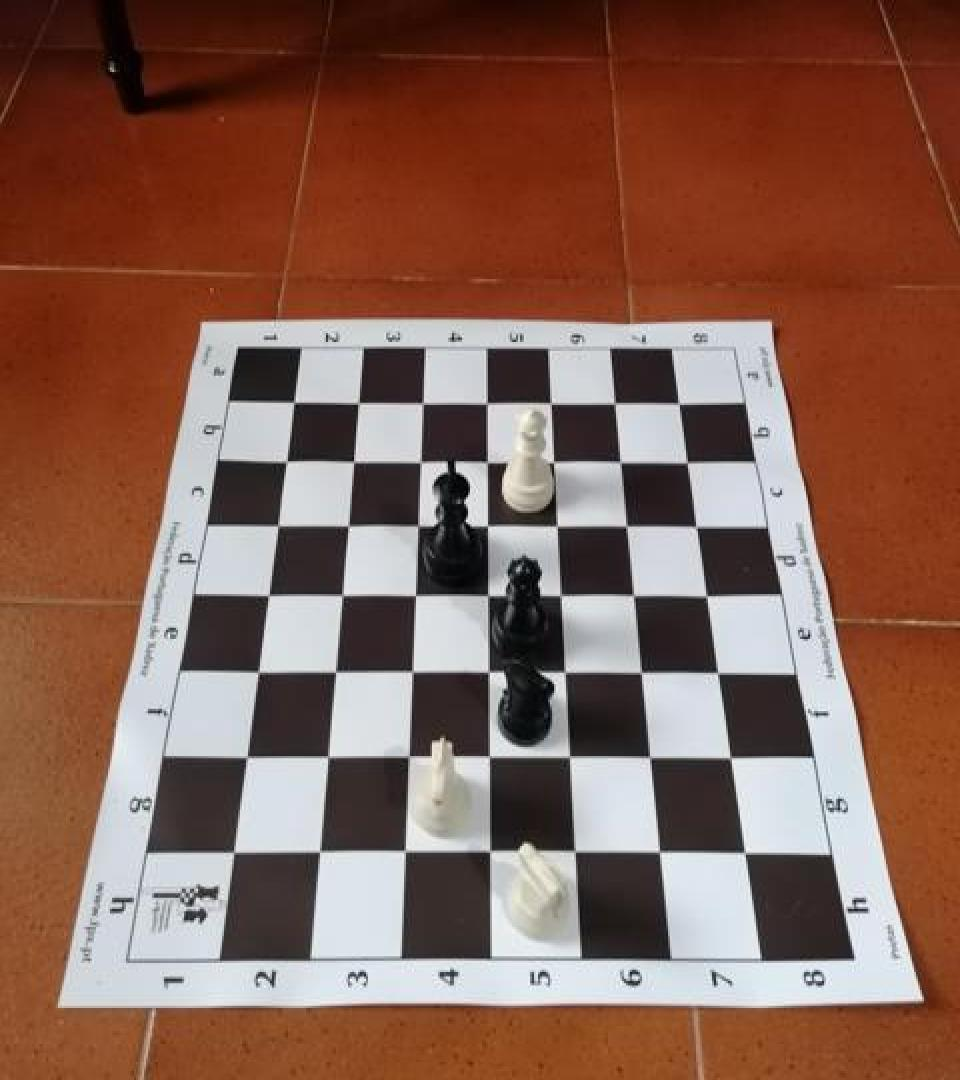xcorner: (668, 384, 698, 418), (603, 386, 633, 420), (538, 386, 568, 420), (473, 387, 503, 421), (408, 387, 438, 421), (344, 388, 374, 422), (279, 388, 309, 422), (676, 444, 706, 478), (609, 446, 639, 480), (541, 446, 571, 480), (473, 446, 503, 480), (406, 446, 436, 480), (338, 446, 368, 480), (686, 508, 716, 542), (615, 510, 645, 544), (544, 510, 574, 544), (473, 510, 503, 544), (403, 510, 433, 544), (332, 510, 362, 544), (262, 512, 292, 546), (696, 579, 726, 613), (622, 579, 652, 613), (547, 580, 577, 614), (474, 580, 504, 614), (400, 580, 430, 614), (326, 582, 356, 616), (253, 582, 283, 616), (707, 657, 737, 691), (629, 657, 659, 691), (551, 657, 581, 691), (474, 658, 504, 692), (396, 658, 426, 692), (319, 658, 349, 692), (242, 659, 272, 693), (719, 742, 749, 776), (637, 742, 667, 776), (556, 742, 586, 776), (474, 742, 504, 776), (393, 744, 423, 778), (311, 744, 341, 778), (230, 744, 260, 778), (733, 837, 763, 871), (646, 837, 676, 871), (560, 837, 590, 871), (474, 837, 504, 871), (389, 837, 419, 871), (303, 837, 333, 871), (218, 838, 248, 872), (271, 448, 301, 481)
